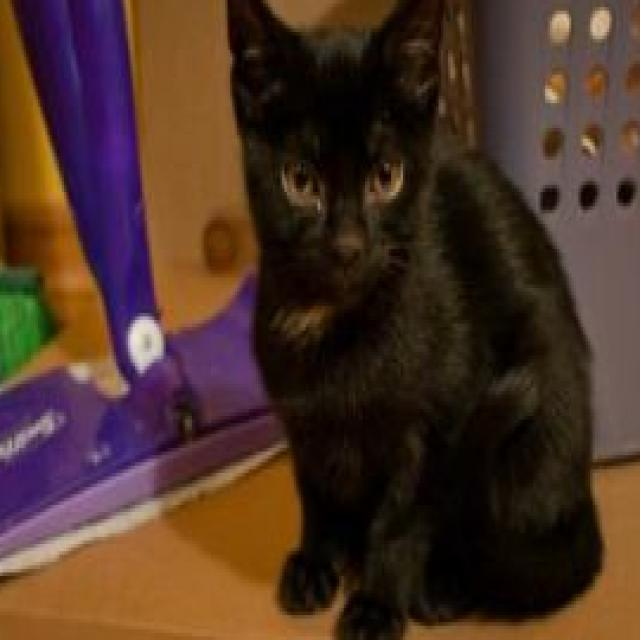Bombay: (223, 0, 604, 640)
